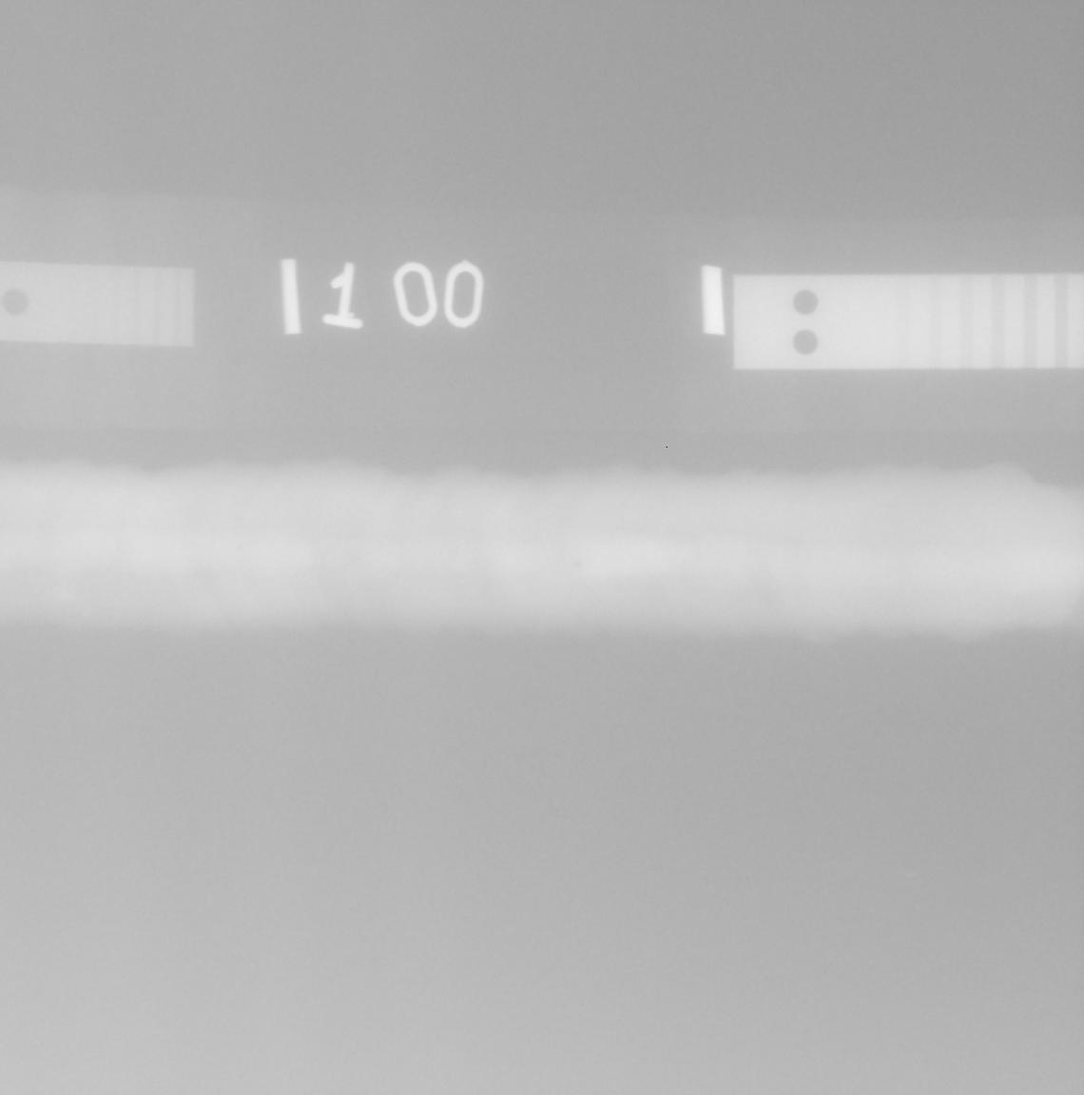Pore/Porosity: (574, 561, 581, 567), (352, 557, 358, 563), (236, 547, 243, 551)
